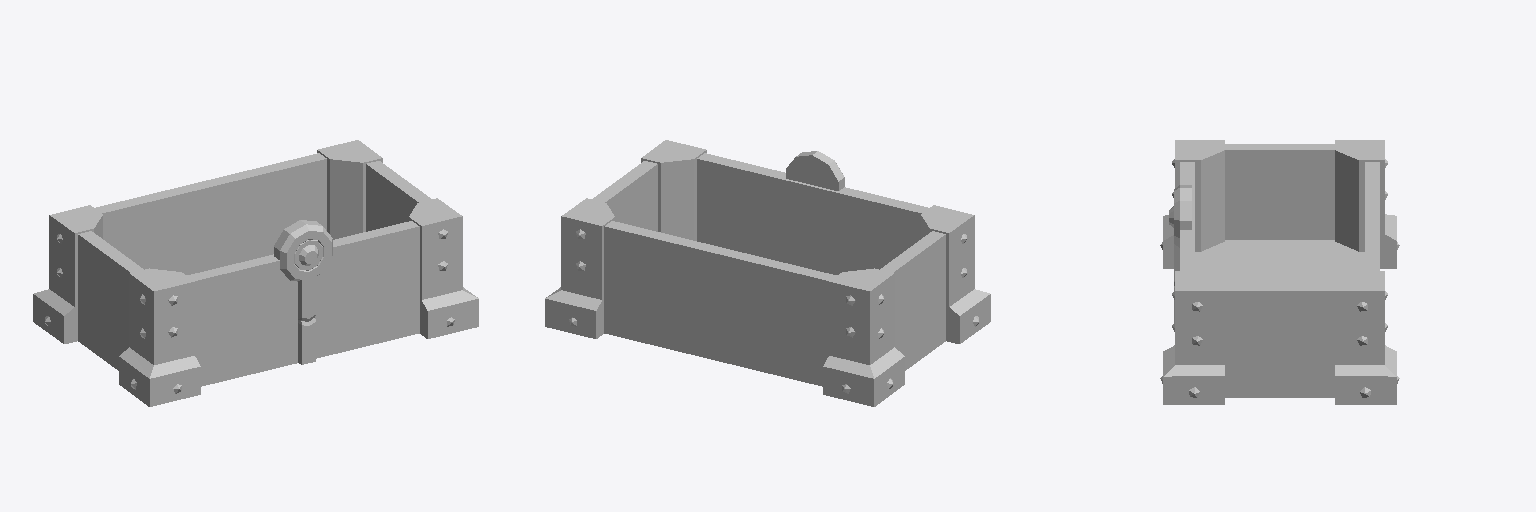
The model's file is chest.obj.
3 renders of one model, left to right at view 1: azimuth 30°, elevation 25°; view 2: azimuth 150°, elevation 25°; view 3: azimuth 270°, elevation 25°, orthographic.
Visible parts, largest first — view 1: Cube.002; view 2: Cube.002; view 3: Cube.002.
Part boxes in pixels (x1,y1,x2,y2): Cube.002: (33,140,478,406); Cube.002: (545,140,990,406); Cube.002: (1160,140,1399,404).
Bounding box in the file's own units: 0.938 × 0.3644 × 0.5787.